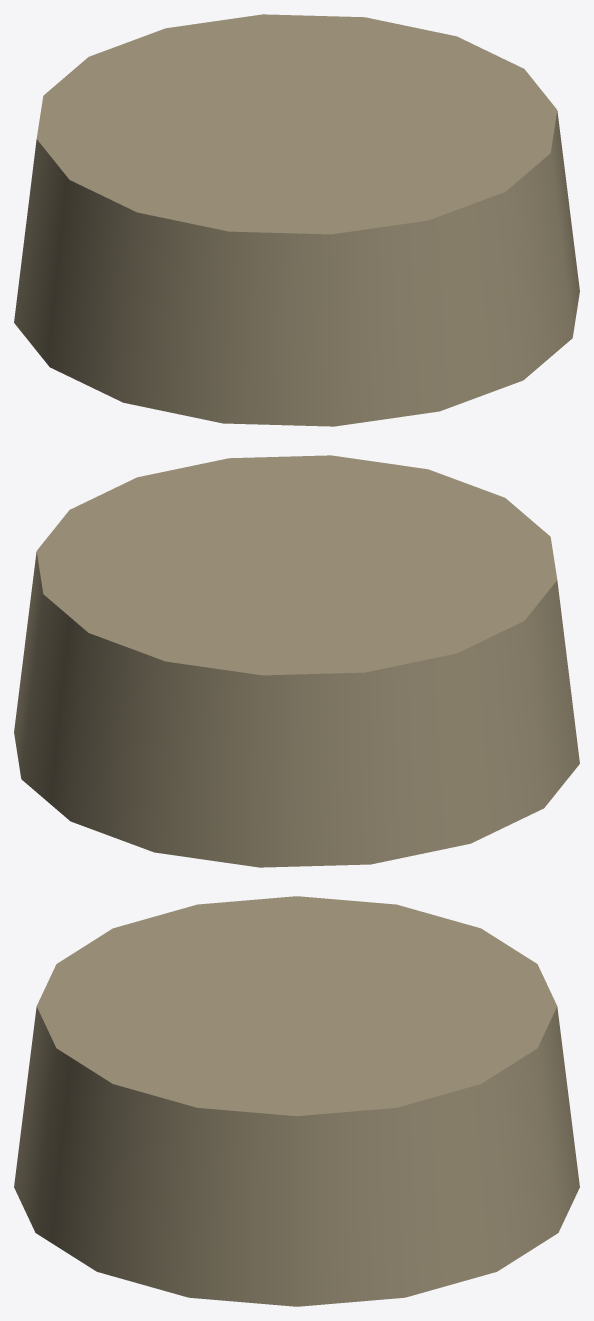
Rendered from fixture-lion-water-v01.glb.
The picture shows the model from 3 angles, top to bottom: view 1: azimuth 30°, elevation 25°; view 2: azimuth 150°, elevation 25°; view 3: azimuth 270°, elevation 25°; orthographic projection.
Visible parts, largest first — view 1: post; view 2: post; view 3: post.
Part boxes in pixels (box(x1,y1,x2,y2)): post: box(14, 14, 579, 426); post: box(14, 455, 579, 867); post: box(14, 896, 579, 1306).
Bounding box in the file's own units: 0.34 × 0.12 × 0.34.
